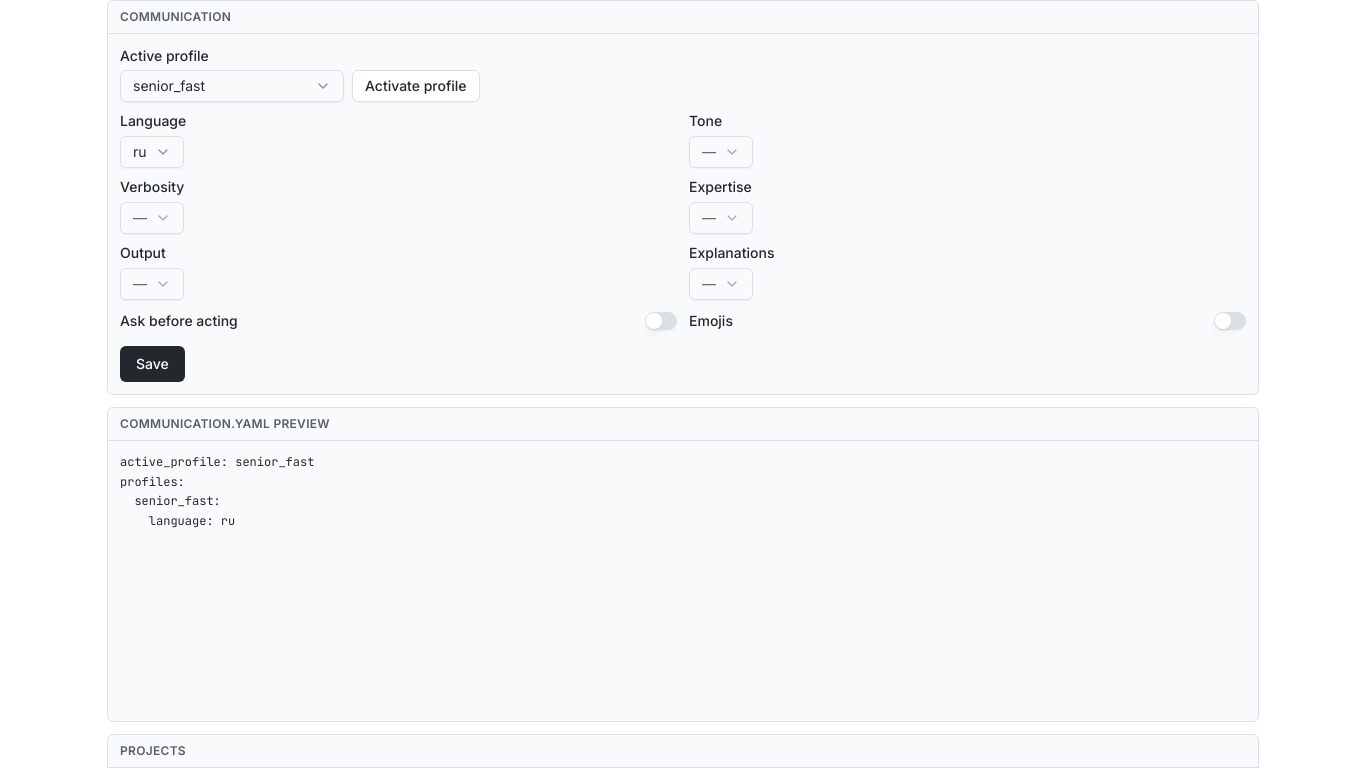
Test: SettingsPage › lists the available profiles in the profile picker
Click the dropdown named "Select profile". click: (232, 86)
box: [120, 70, 344, 102]
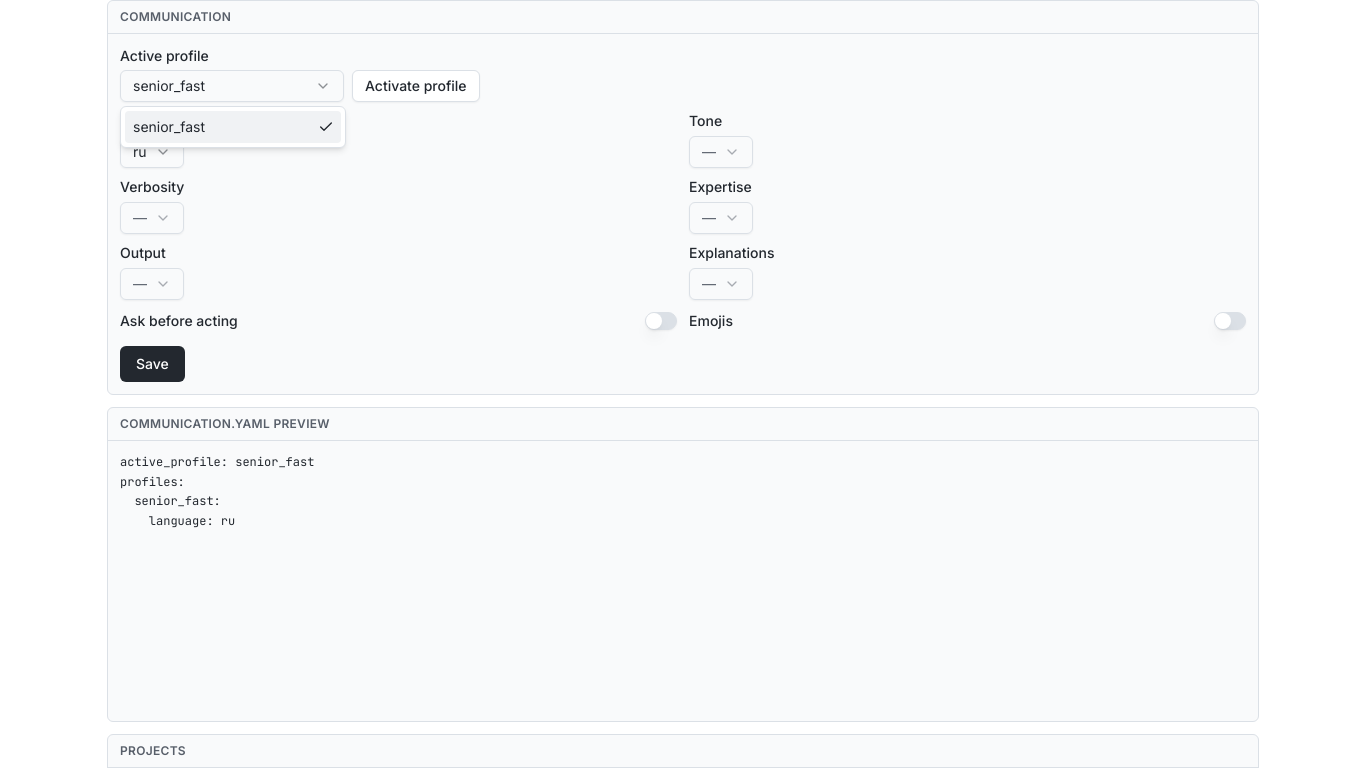
Expected: the option "senior_fast" is shown, [125, 111, 341, 143]
